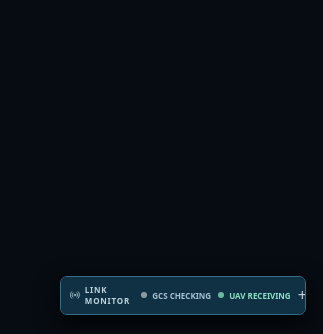
Test: network watch assessments › polls the real operations API and displays only reported aircraft values
Click the button "LINK MONITOR GCS CHECKING UAV RECEIVING +" at [183, 295], box [61, 277, 305, 314]
(page scrolled)
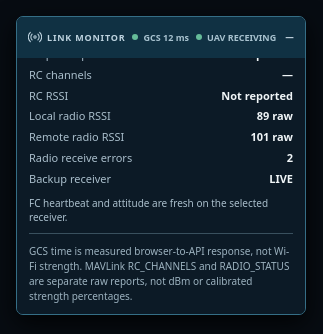
Expected: the text "Local radio RSSI" is shown, [29, 109, 111, 124]
Expected: the text "89 raw" is shown, [257, 109, 293, 124]
Expected: the text "101 raw" is shown, [250, 130, 293, 145]
